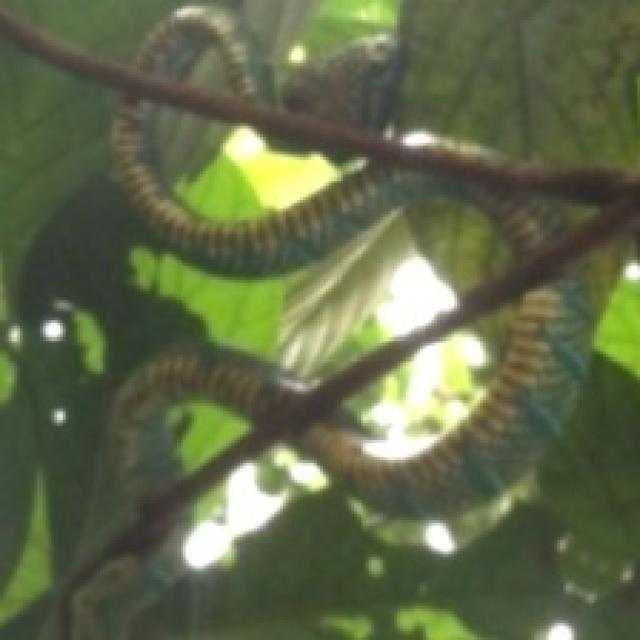north ph temple pitviper: (100, 6, 634, 557)
